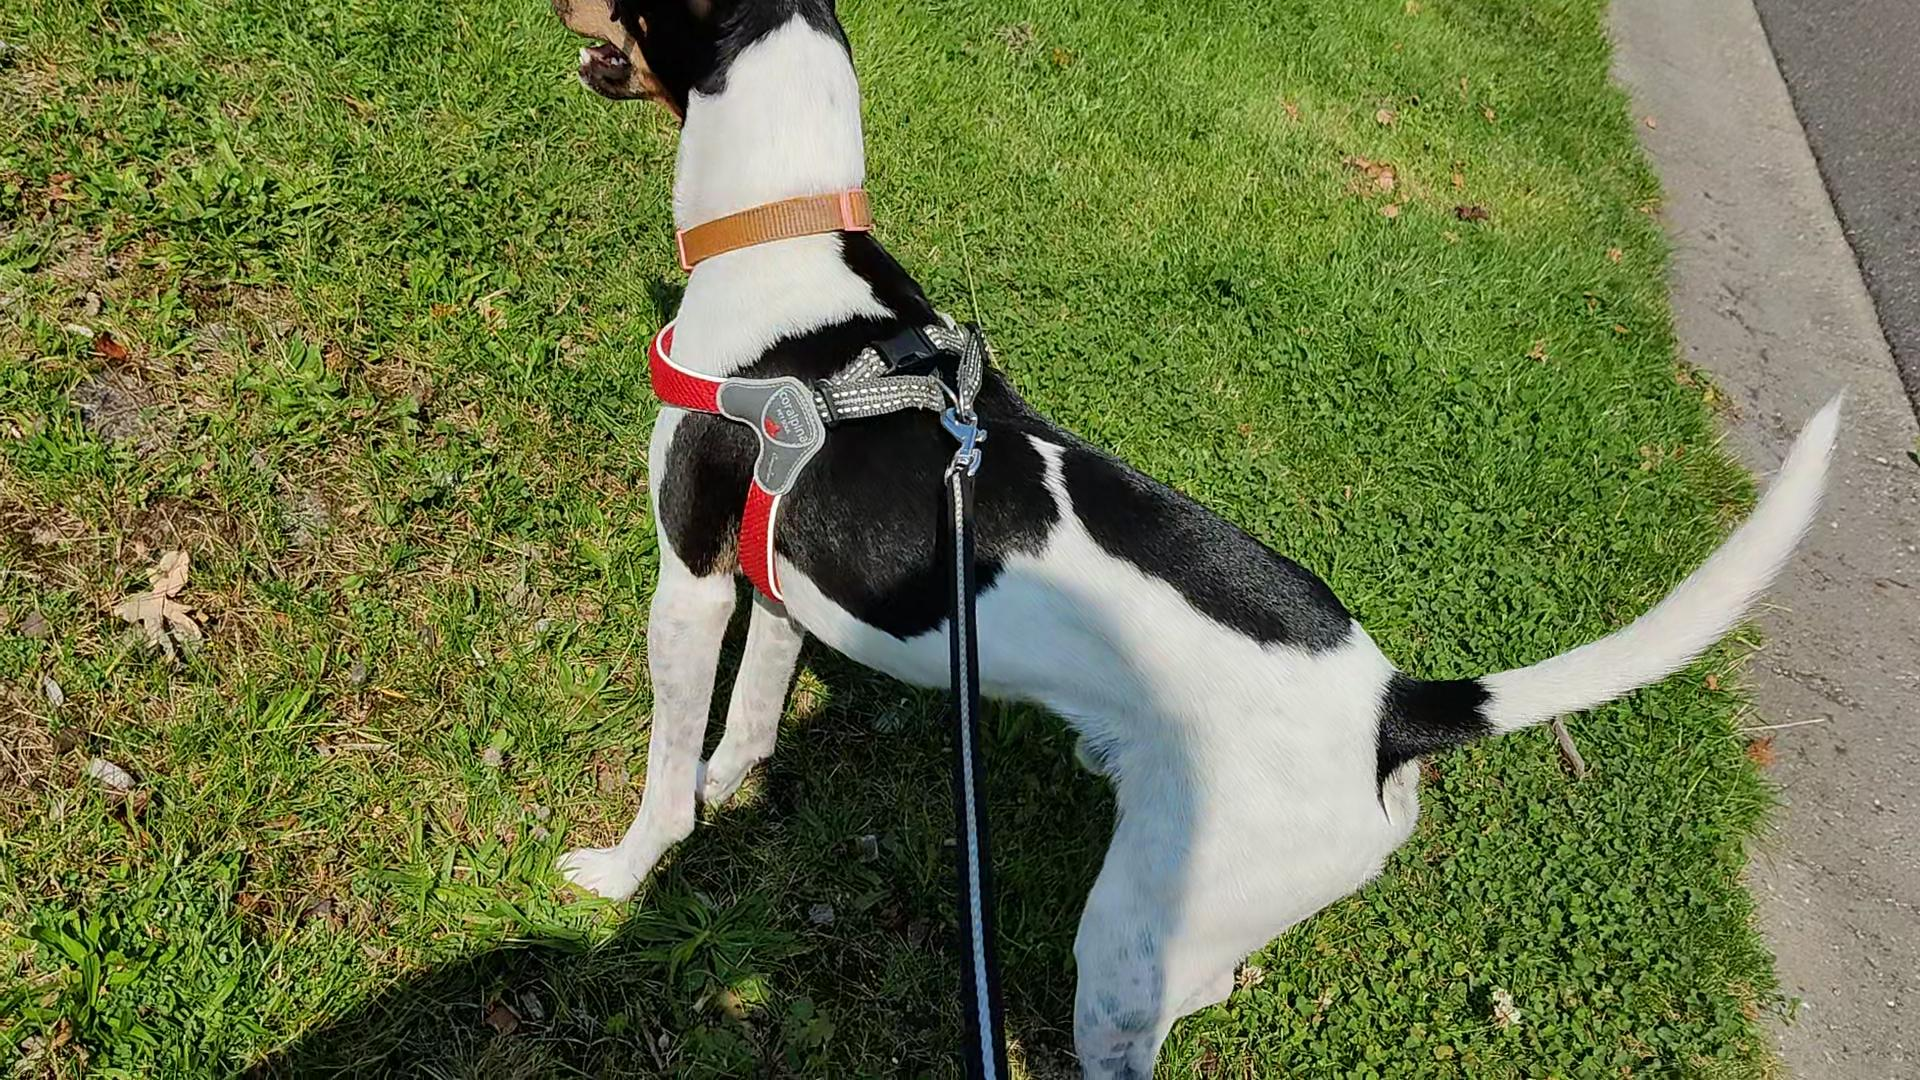Dog: (545, 0, 1861, 1079)
